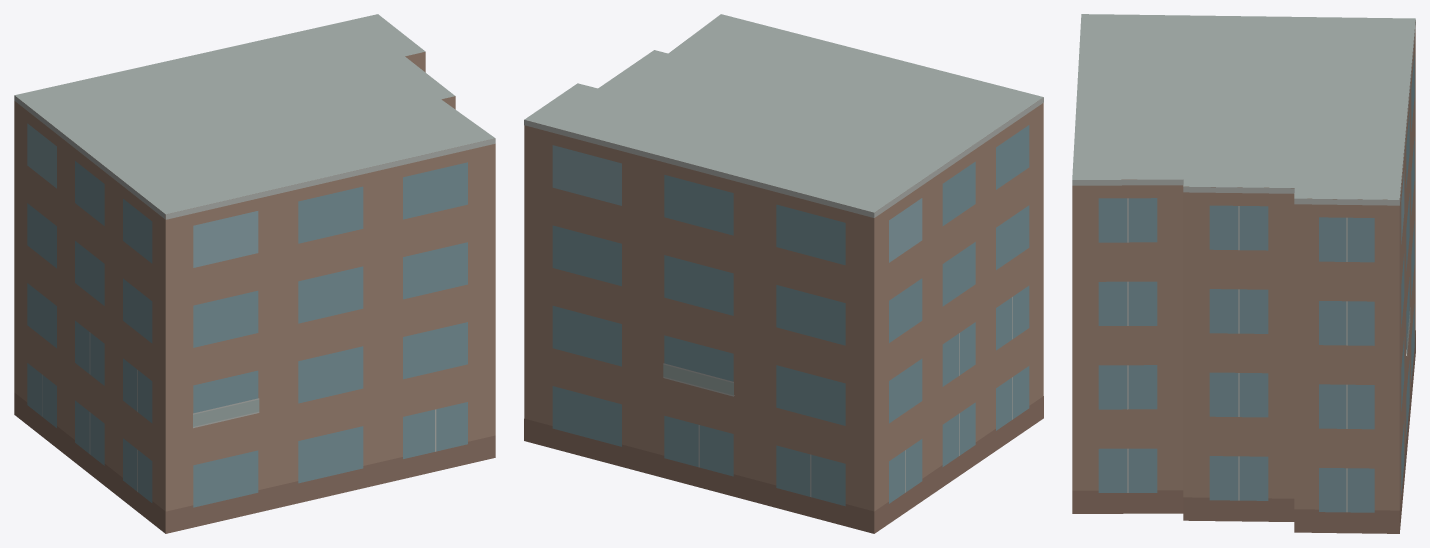
File: survey-upis-32499563.glb
3 views of the same model, side by side, from view 1: azimuth 30°, elevation 25°; view 2: azimuth 150°, elevation 25°; view 3: azimuth 270°, elevation 25° (orthographic). The views are drawn at different scales.
Parts seen in each view (by area): view 1: survey-upis-32499563.tmp; view 2: survey-upis-32499563.tmp; view 3: survey-upis-32499563.tmp.
Part boxes in pixels (bbox=[...]): survey-upis-32499563.tmp: bbox=[14, 14, 495, 533]; survey-upis-32499563.tmp: bbox=[524, 14, 1043, 533]; survey-upis-32499563.tmp: bbox=[1072, 14, 1415, 533].
Bounding box in the file's own units: 17.09 × 14.3 × 13.35.
